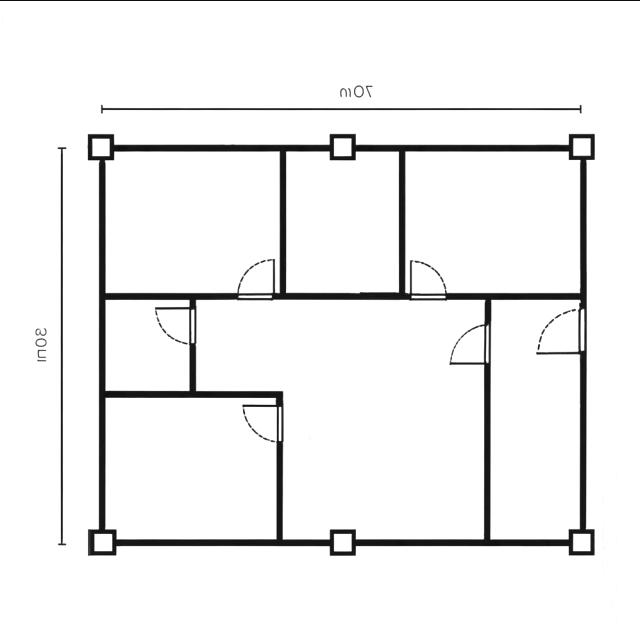column: (322, 128, 362, 165), (563, 524, 601, 560), (326, 523, 360, 561), (84, 522, 120, 557), (84, 129, 118, 163), (564, 130, 598, 164)
